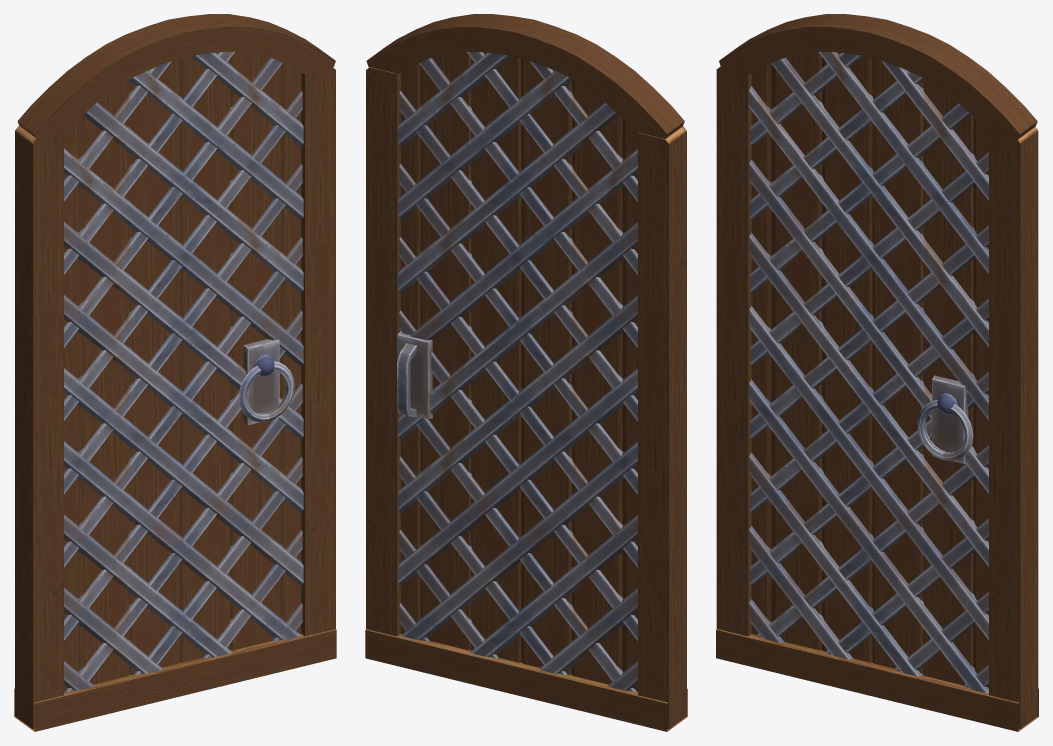
The model's file is gate-qm-door4round.glb.
The picture shows the model from 3 angles, left to right: view 1: azimuth 30°, elevation 25°; view 2: azimuth 150°, elevation 25°; view 3: azimuth 330°, elevation 25°; orthographic projection.
Parts seen in each view (by area): view 1: Cube_195; view 2: Cube_195; view 3: Cube_195.
Part boxes in pixels (x1=…): Cube_195: x1=14, y1=14, x2=336, y2=731; Cube_195: x1=365, y1=14, x2=687, y2=731; Cube_195: x1=716, y1=14, x2=1038, y2=731.
Size of the model in its own units: 1.11 by 2.32 by 0.2093.
Materials: 2 (2 with a texture image).
